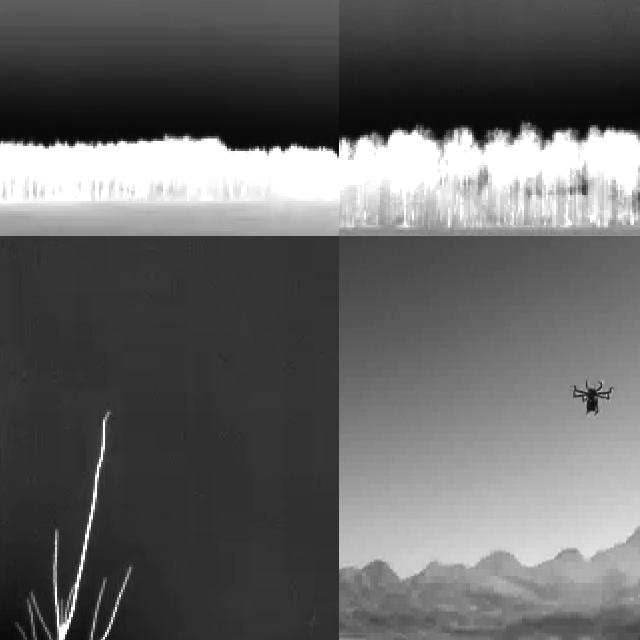0: (301, 608, 327, 638)
drone: (570, 372, 612, 423)
